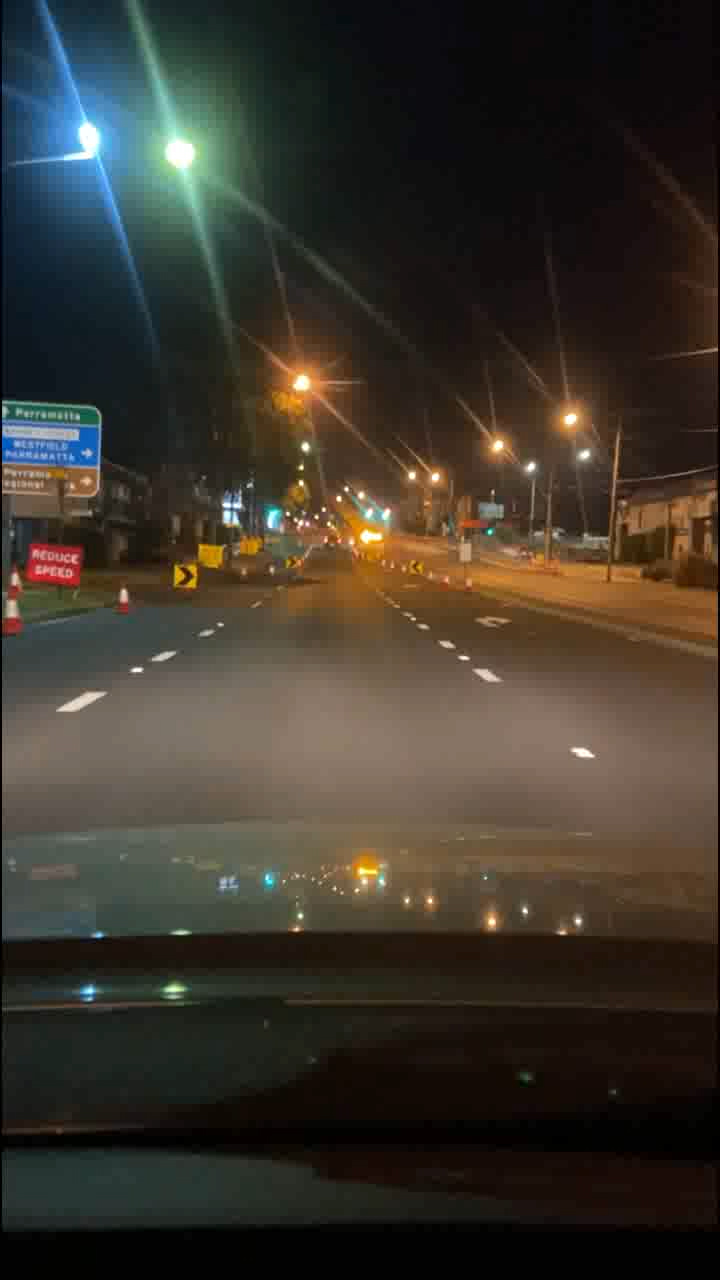road cone: (4, 584, 18, 633), (110, 586, 133, 611)
road works sign board: (29, 540, 81, 586), (195, 546, 222, 577), (172, 567, 200, 588), (404, 558, 427, 573)
